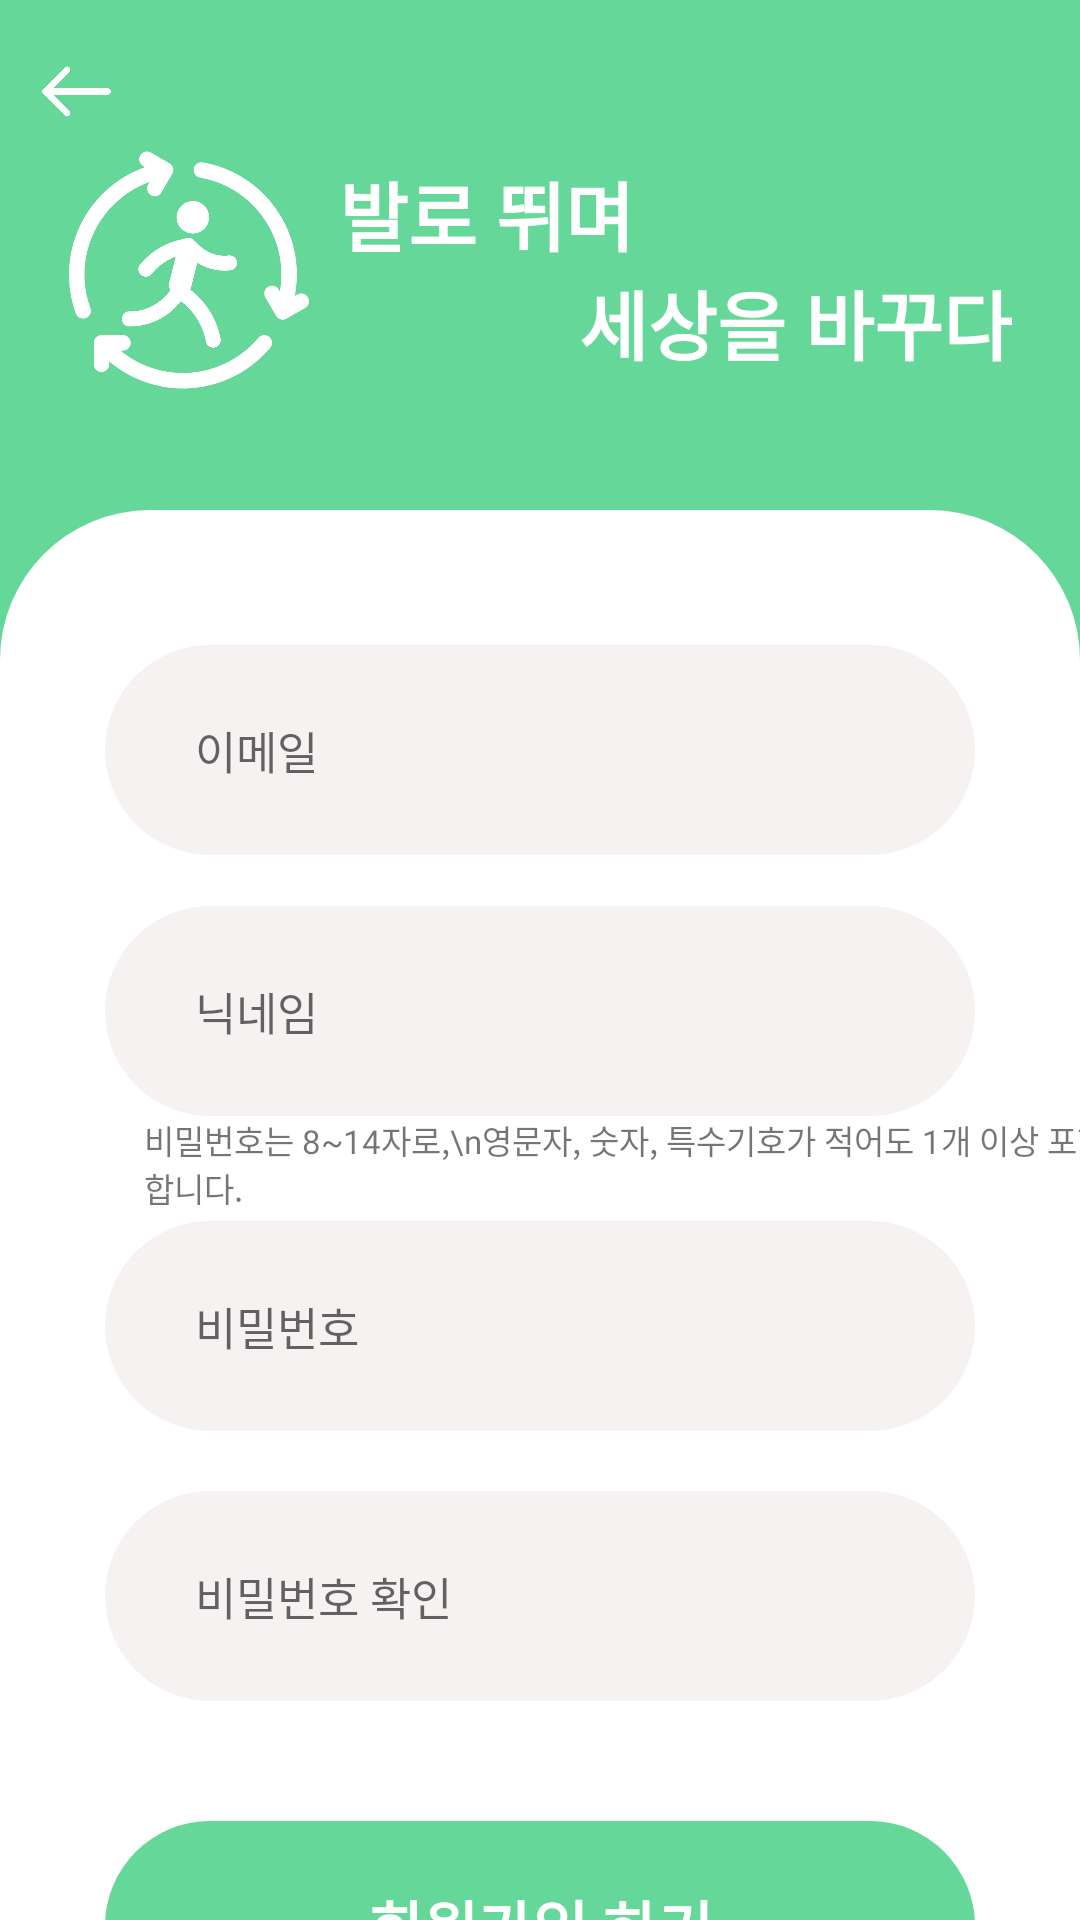

Screen size 1080 × 1920. Icon name, then its box in pixels as (x1, y1, x2, y2):
back: (42, 66, 111, 117)
